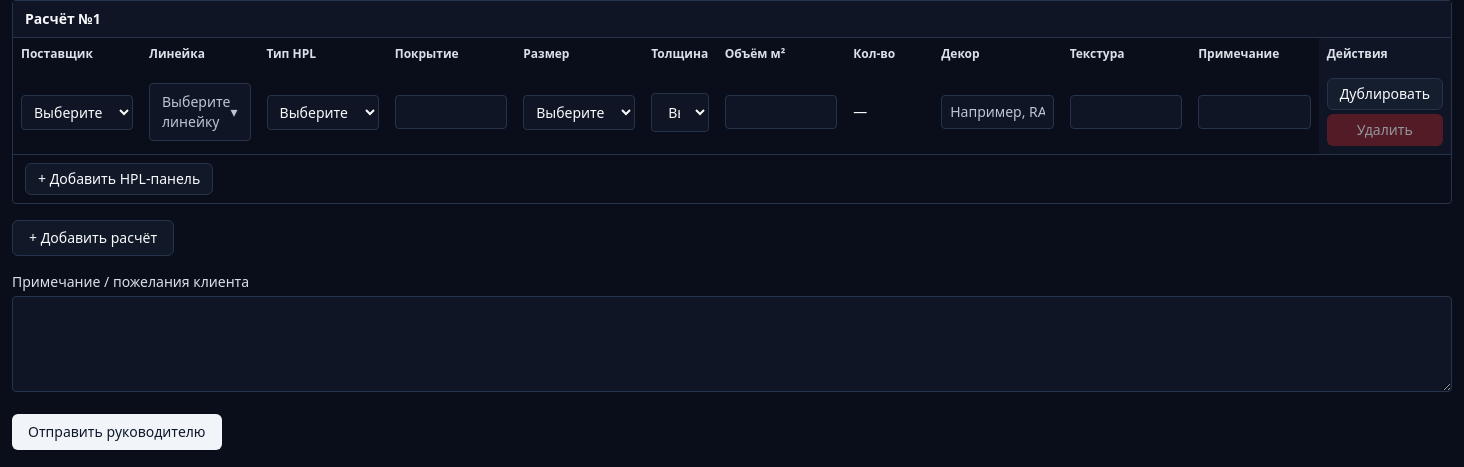
it: CalculationRequestForm › recalculates the preview when area or size changes and ceils fractions
Step 1. Select "1000 × 1000" in the dropdown named "Размер, строка 1" → (579, 112), box [523,94,635,130]
Step 2. Type "1.1" into the field named "Объём м², строка 1" → (781, 112), box [725,95,837,129]
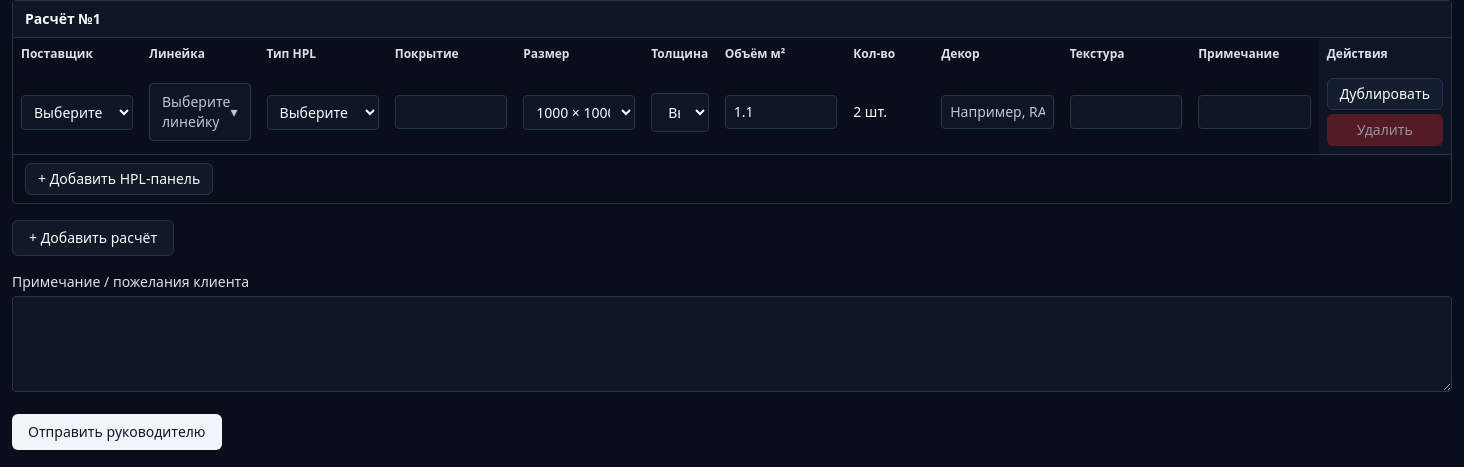
Expected: the text named "Количество, строка 1" reads "2 шт.", [853,102,887,121]
Step 3. Clear the field named "Объём м², строка 1" → (781, 112), box [725,95,837,129]
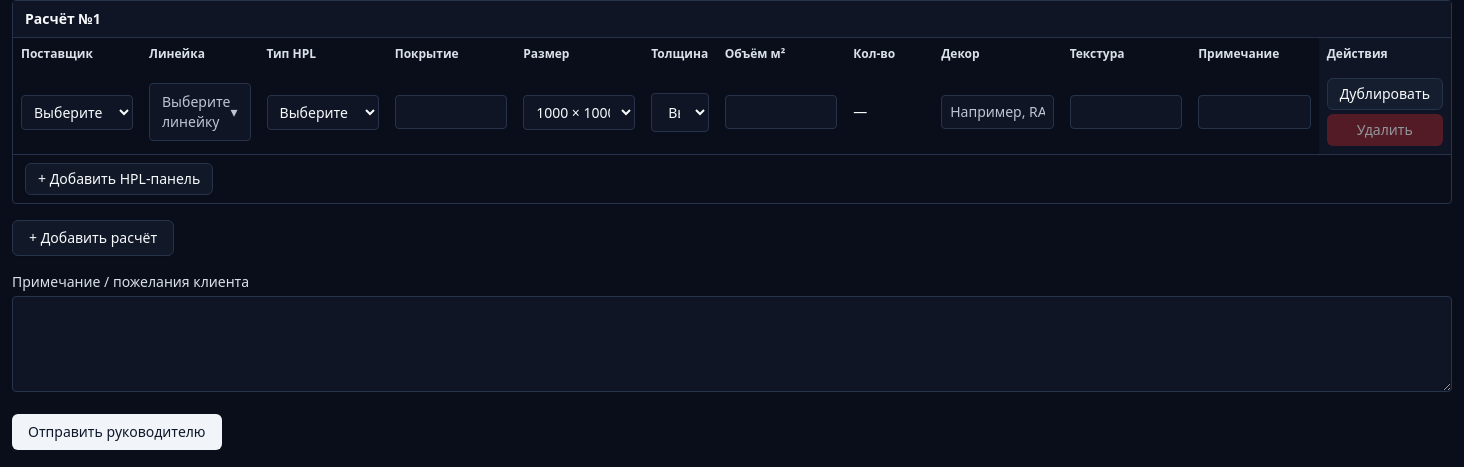
Expected: the text named "Количество, строка 1" reads "—", [853,102,867,121]
Step 4. Type "1000" into the field named "Объём м², строка 1" → (781, 112), box [725,95,837,129]
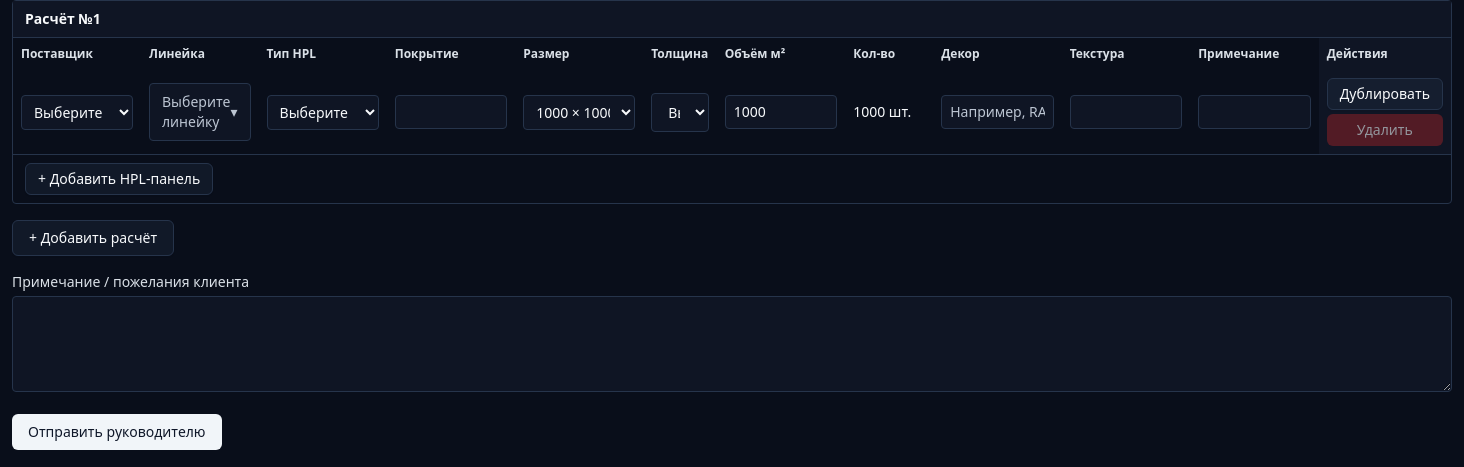
Expected: the text named "Количество, строка 1" reads "1000 шт.", [853,102,911,121]
Step 5. Select "1830 × 3050" in the dropdown named "Размер, строка 1" → (579, 112), box [523,94,635,130]
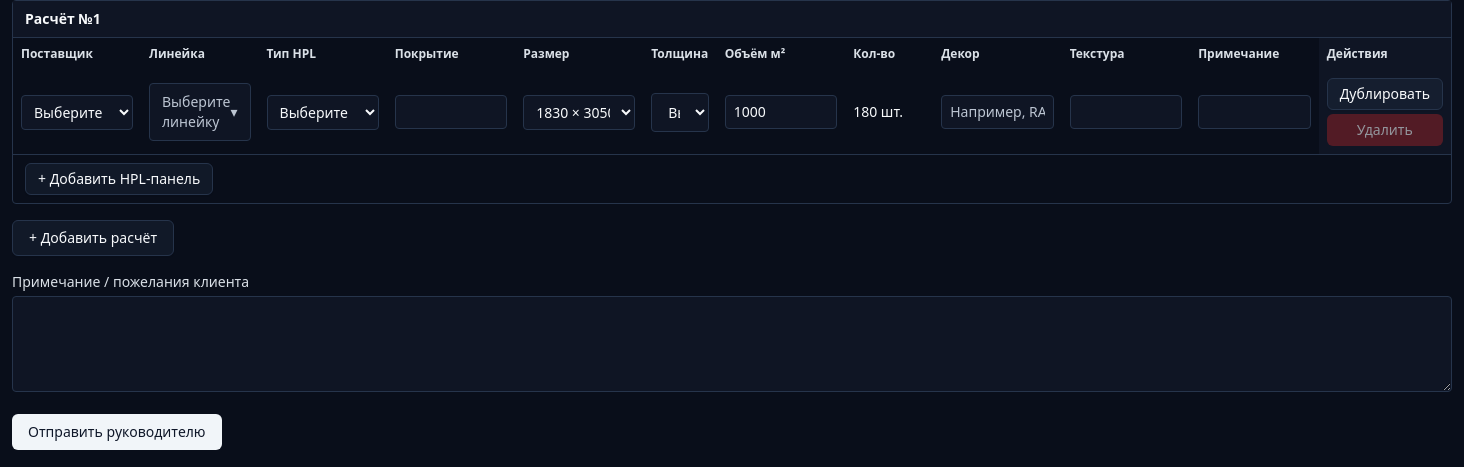
Expected: the text named "Количество, строка 1" reads "180 шт.", [853,102,903,121]
Step 6. Select "1220 × 2440" in the dropdown named "Размер, строка 1" → (579, 112), box [523,94,635,130]
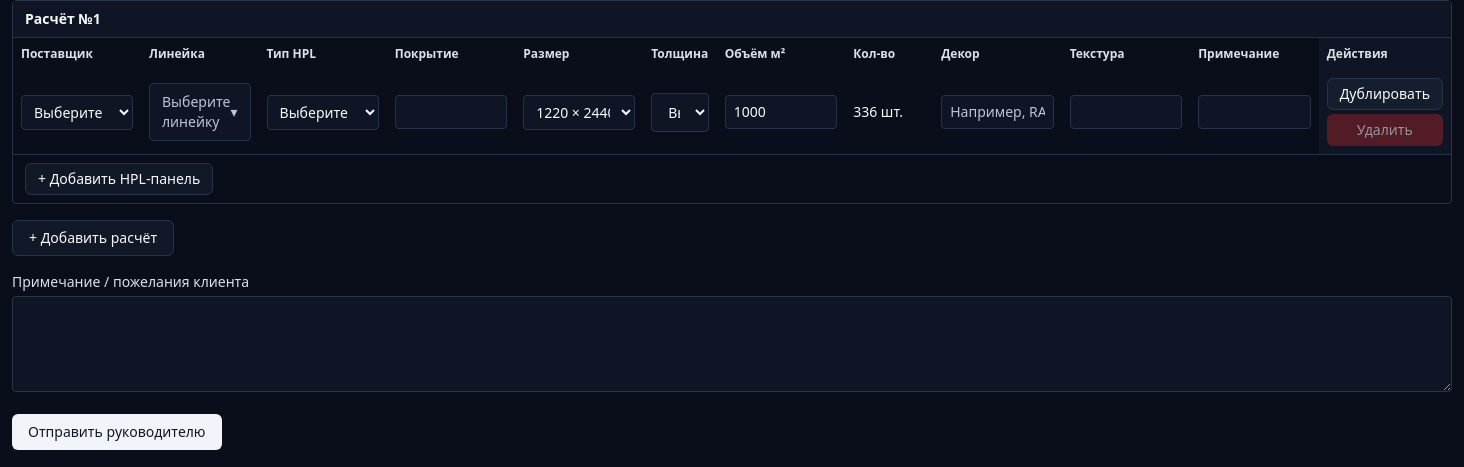
Expected: the text named "Количество, строка 1" reads "336 шт.", [853,102,903,121]
Step 7. Select "Выберите" in the dropdown named "Размер, строка 1" → (579, 112), box [523,94,635,130]
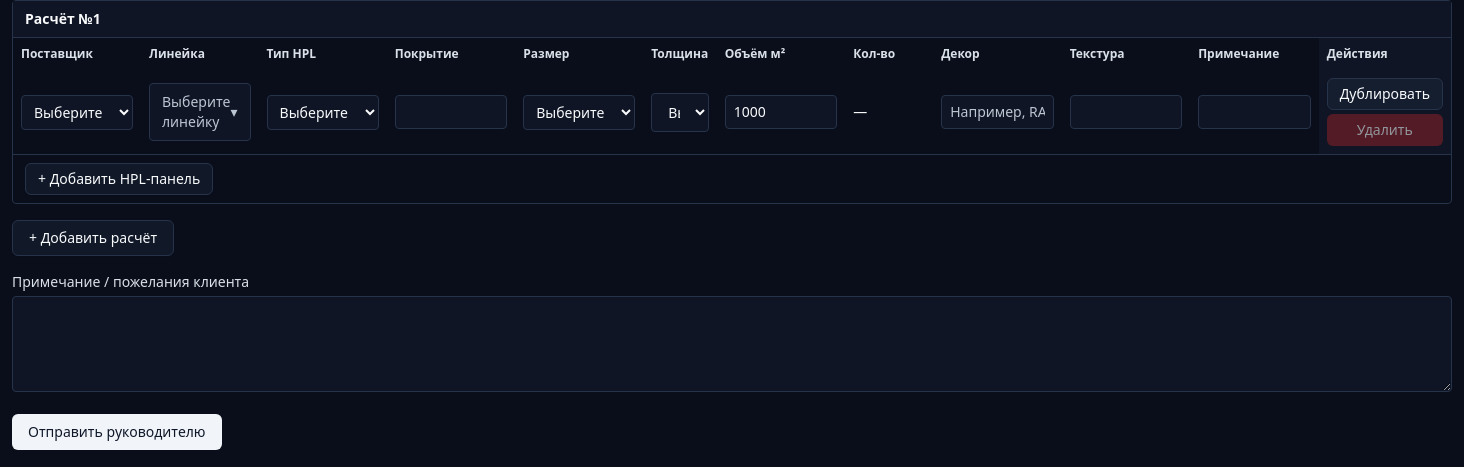
Expected: the text named "Количество, строка 1" reads "—", [853,102,867,121]
